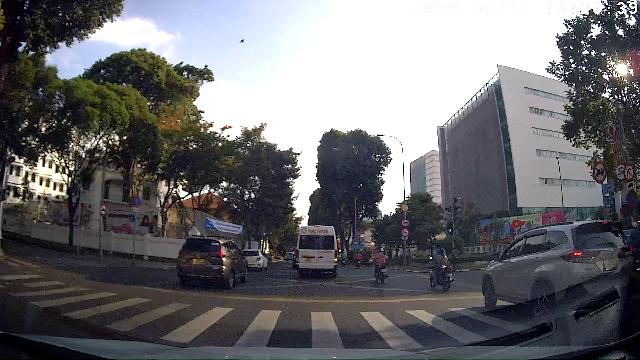123b-cam-re-phai: (624, 164, 634, 180)
